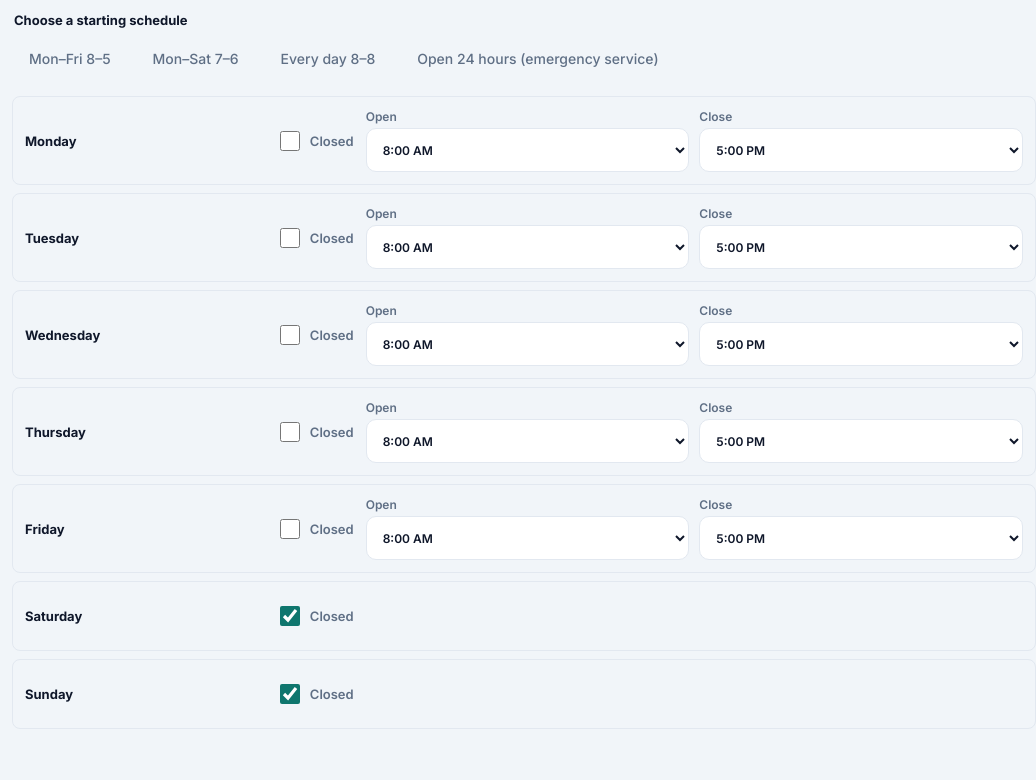
Test case: HoursEditor › applies the 24-hour preset and keeps every row open
Step 1. Click the button "Open 24 hours (emergency service)" → (538, 58), box [400, 36, 676, 80]
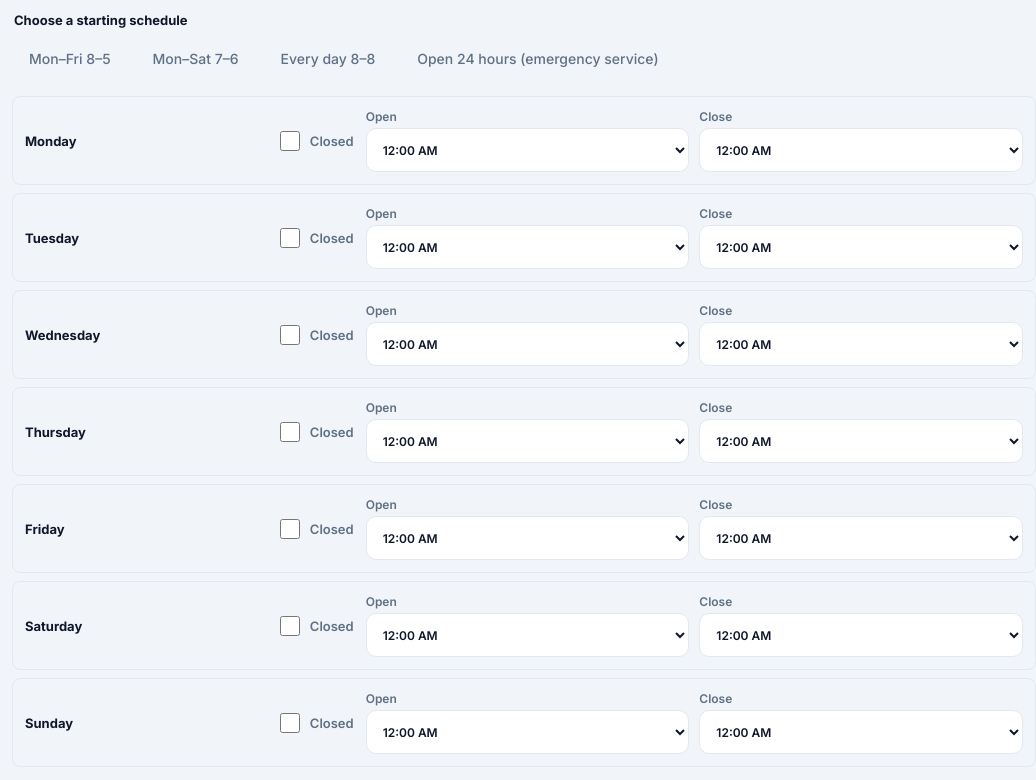
Check: the checkbox named "Sunday Closed" is not checked, box [280, 712, 300, 732]
